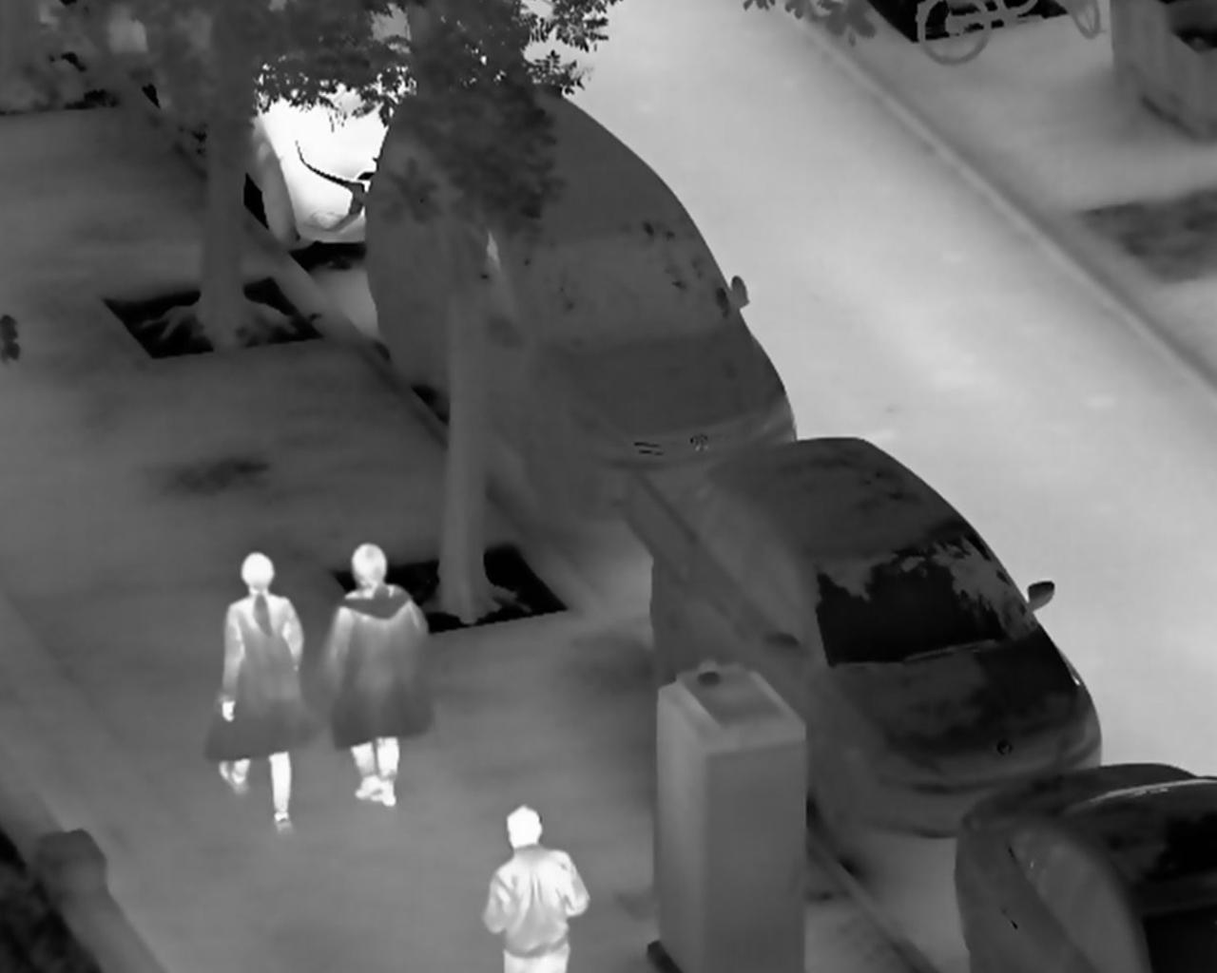person: (200, 551, 319, 838), (315, 541, 439, 814), (476, 799, 592, 973)
